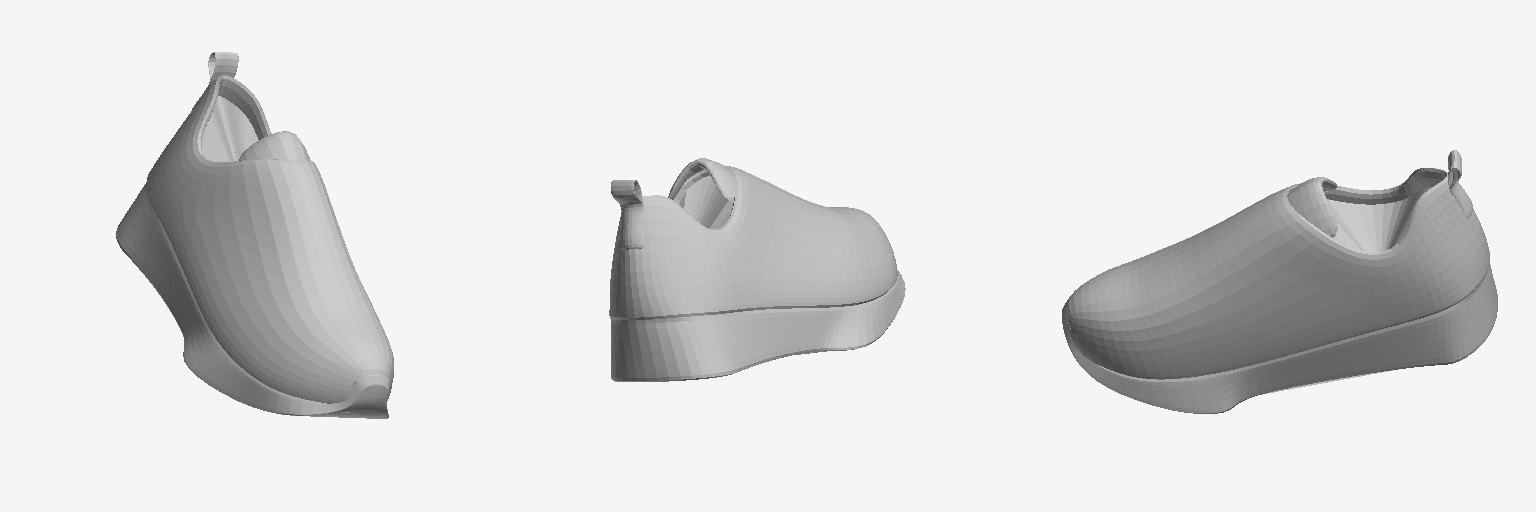
The model's file is rightsneaker.obj.
3 views of the same model, side by side, from view 1: azimuth 30°, elevation 25°; view 2: azimuth 150°, elevation 25°; view 3: azimuth 270°, elevation 25° (orthographic).
Parts seen in each view (by area): view 1: shoes.001_Cube.001; view 2: shoes.001_Cube.001; view 3: shoes.001_Cube.001.
Part boxes in pixels (x1,y1,x2,y2): shoes.001_Cube.001: (116, 52, 393, 418); shoes.001_Cube.001: (609, 158, 905, 381); shoes.001_Cube.001: (1062, 150, 1497, 413).
Bounding box in the file's own units: 4.09 × 6.1 × 9.38.